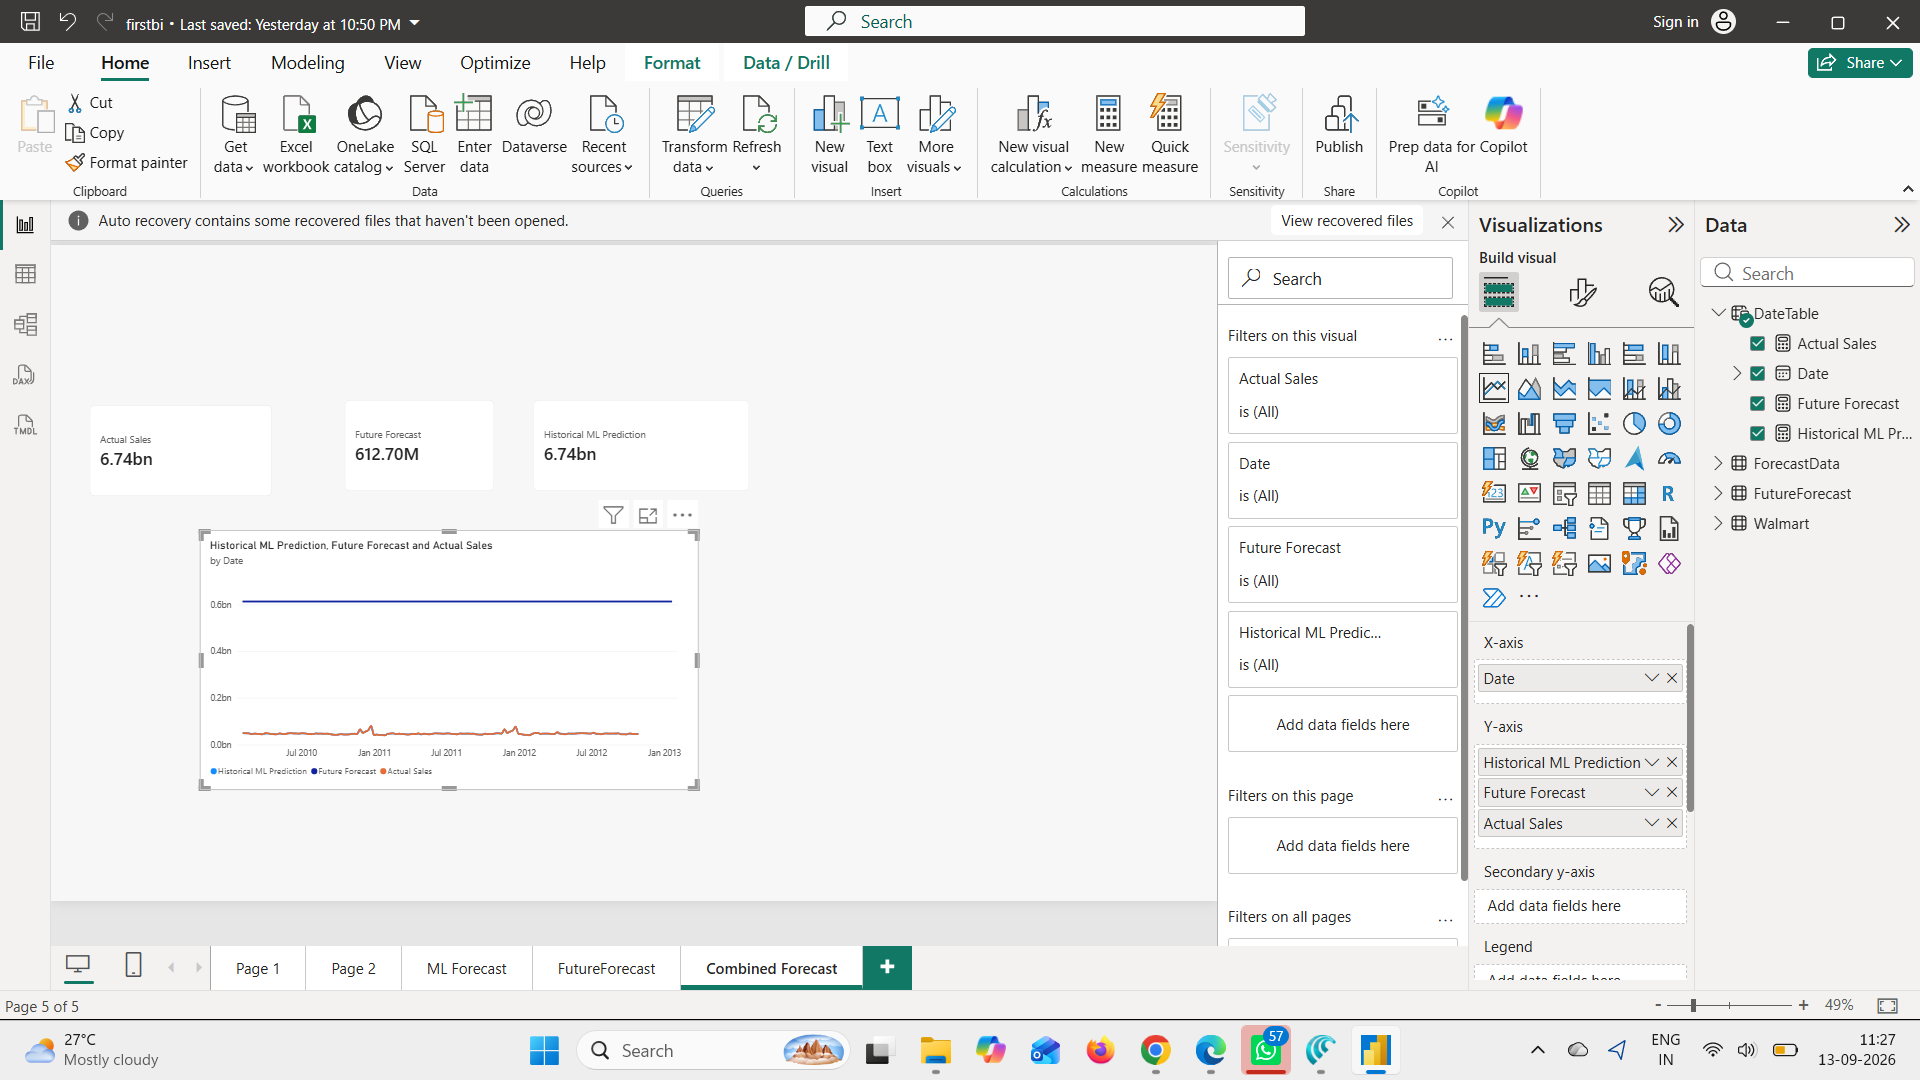

Layout of this report page (visuals, bound fields, positions):
{"tool":"powerbi","page":{"name":"Combined Forecast","canvas":[1920,1080],"ordinal":4},"visuals":[{"type":"lineChart","fields":{"Category":["DateTable.Date"],"Y":["DateTable.Historical ML Prediction","DateTable.Future Forecast","DateTable.Actual Sales"]},"box":[244.9,405.5,1366.7,675.1],"z":0},{"type":"cardVisual","fields":{"Data":["DateTable.Actual Sales"]},"box":[64.3,264.3,300,150],"z":1000},{"type":"cardVisual","fields":{"Data":["DateTable.Future Forecast"]},"box":[482.9,254.3,246.7,150],"z":2000},{"type":"cardVisual","fields":{"Data":["DateTable.Total Future Forecast"]},"box":[794.3,255.7,355.6,150],"z":3000},{"type":"textbox","title":"Actual vs ML Prediction vs Future Forecast","box":[1200,0,720.4,150.3],"z":4000}]}

Visuals, with their boxes on the page's 1920x1080 design canvas (x1, y1, x2, y2). These are canvas units, not pixel positions in the 1920x1080 screenshot, which may show the page scaled, cropped or inside an application window:
lineChart - DateTable.Date x DateTable.Historical ML Prediction: left=245, top=406, right=1612, bottom=1081
cardVisual - DateTable.Actual Sales: left=64, top=264, right=364, bottom=414
cardVisual - DateTable.Future Forecast: left=483, top=254, right=730, bottom=404
cardVisual - DateTable.Total Future Forecast: left=794, top=256, right=1150, bottom=406
"Actual vs ML Prediction vs Future Forecast" textbox: left=1200, top=0, right=1920, bottom=150
